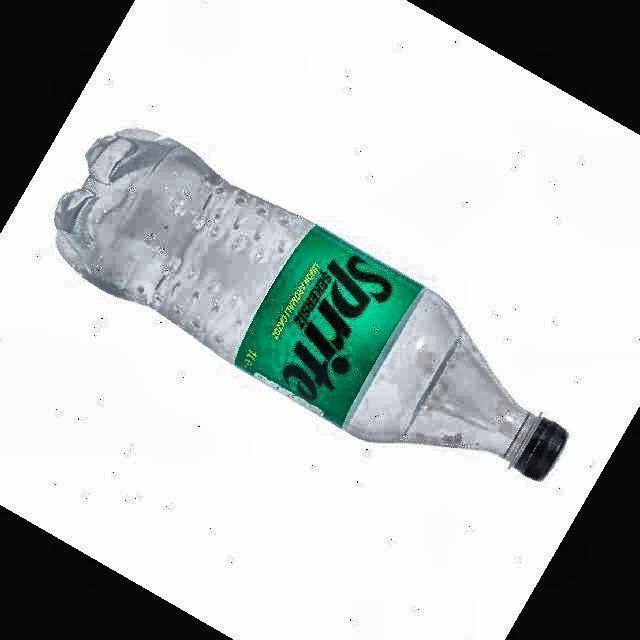plastic: (55, 129, 566, 480)
